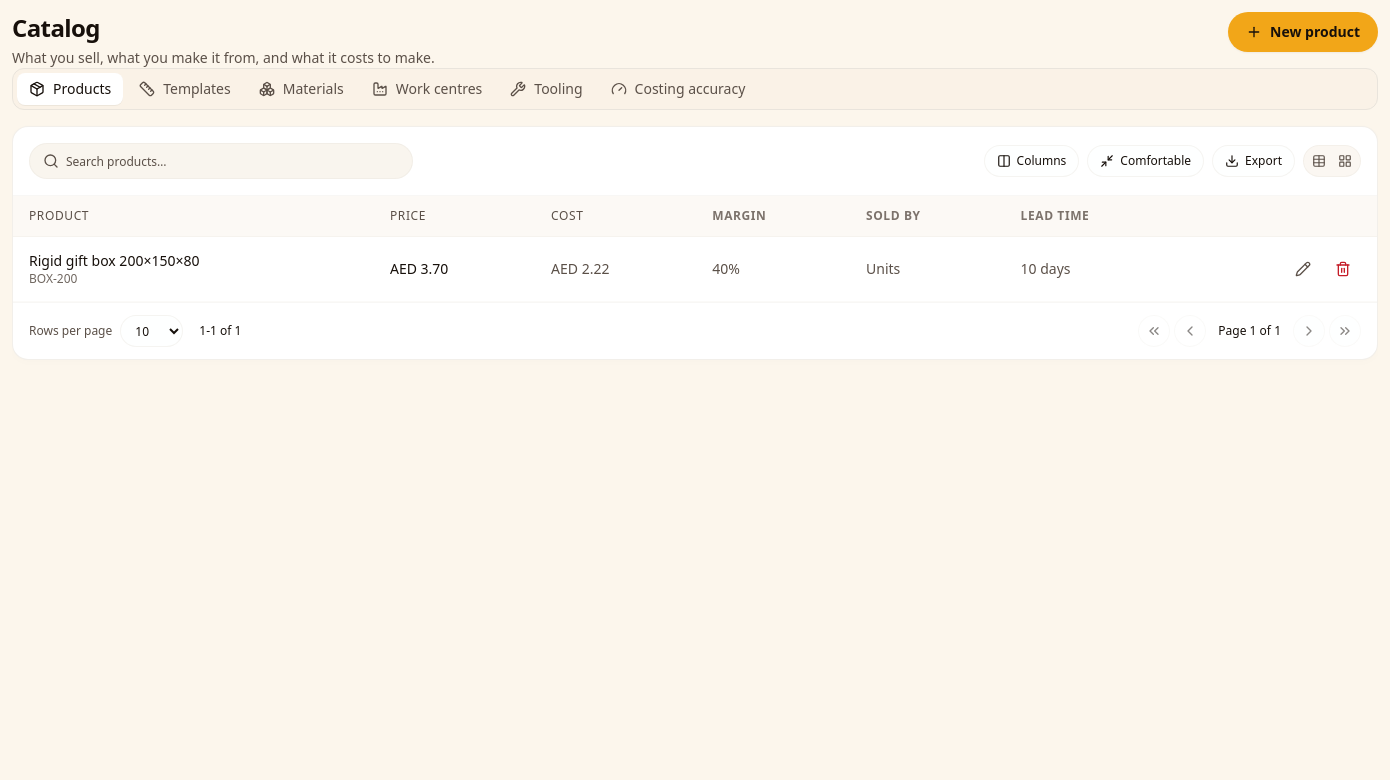
Test case: CatalogView › templates › says what a template is for when there are none
The width and height of the screenshot is (1390, 780).
Click the button "Templates": x=185, y=89 [127, 73, 243, 105]
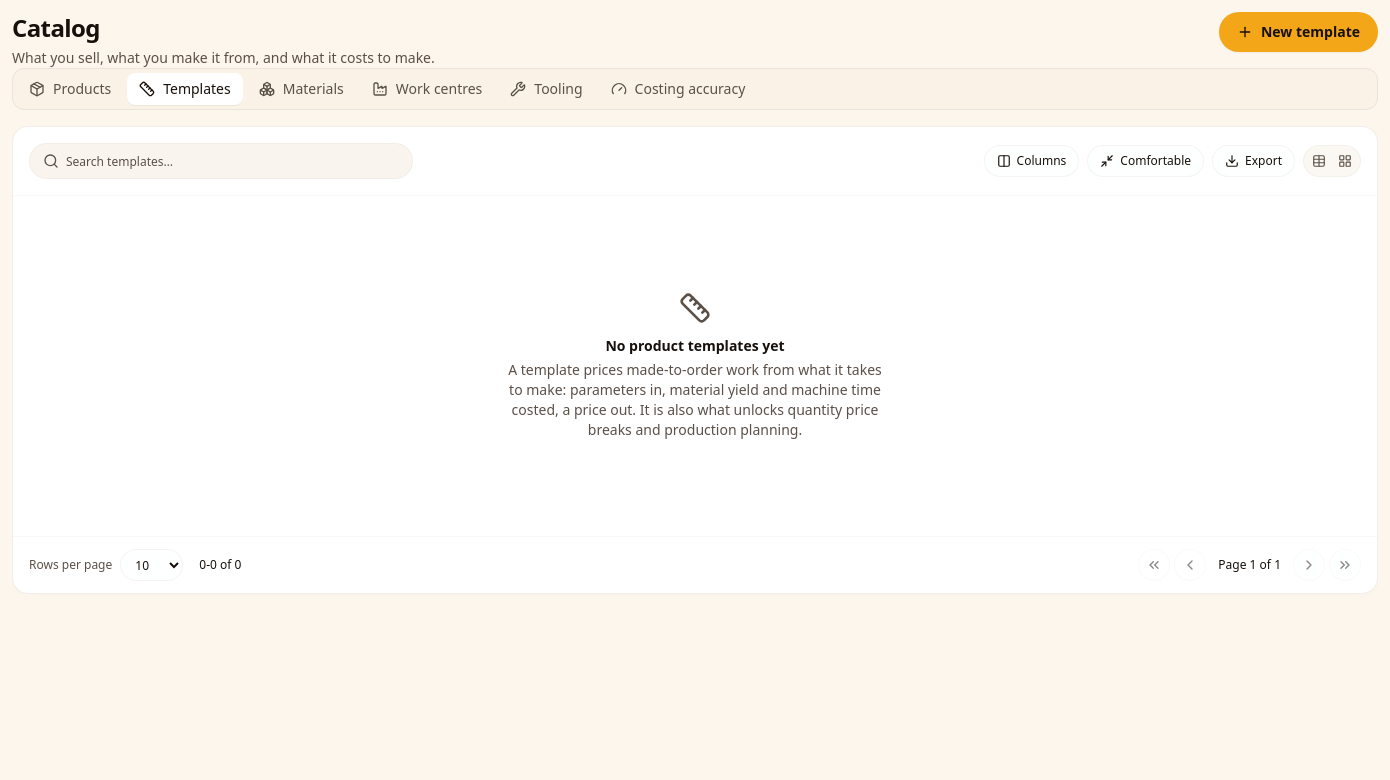
Check: the text "No product templates yet" is shown, box [605, 336, 785, 356]
